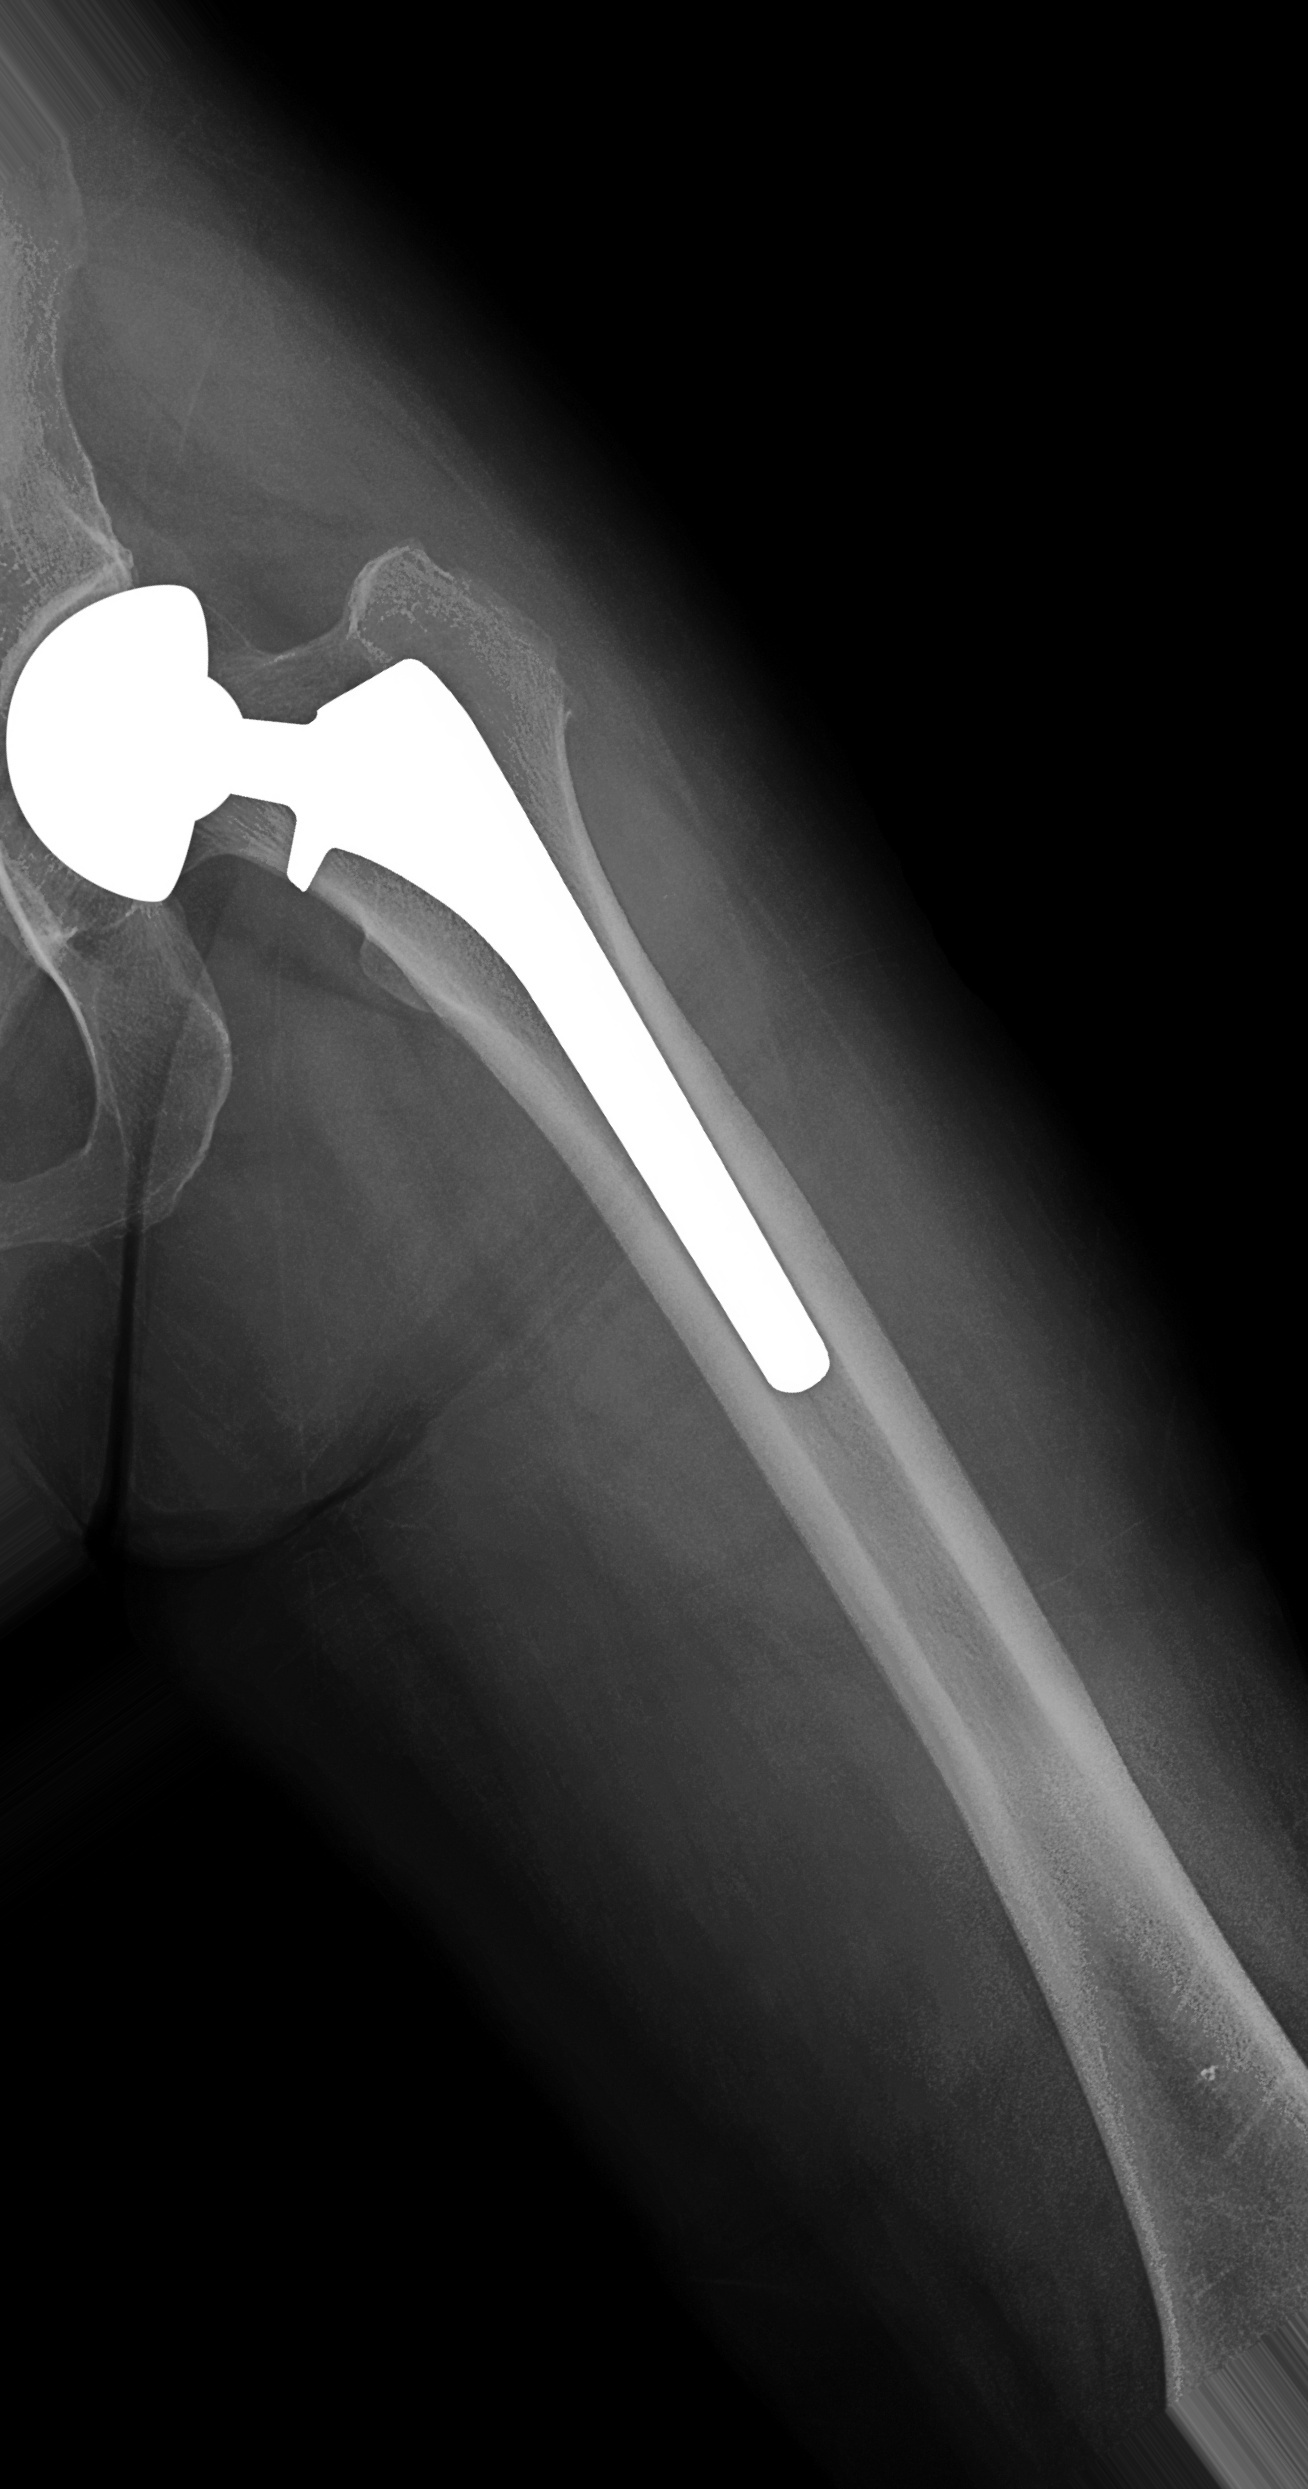Hip - APR - Zimmer: (3, 520, 939, 1518)
